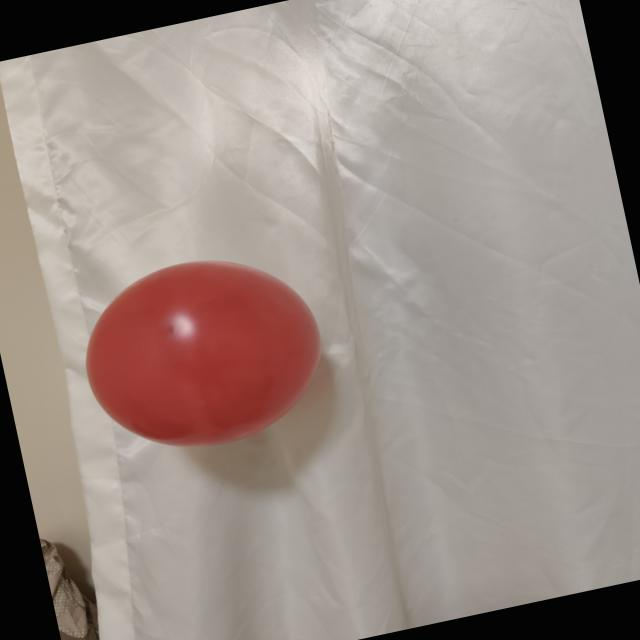balloon: (86, 261, 320, 445)
